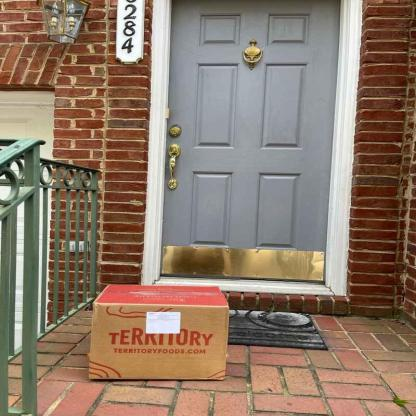label: (146, 312, 181, 333)
package: (89, 286, 230, 381)
